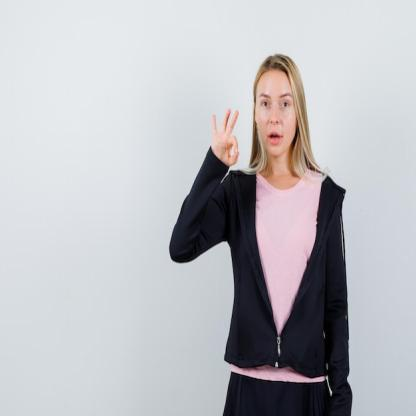ok: (209, 104, 240, 167)
